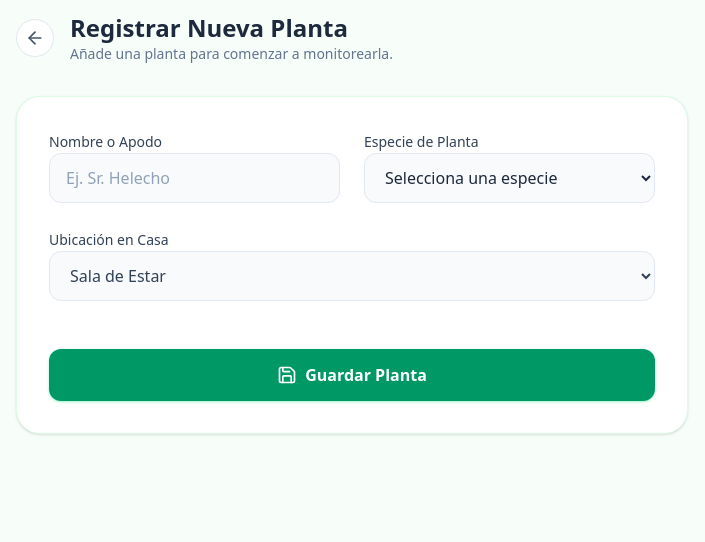
Scenario: Formulario AddPlant › un 400 con errores muestra el mensaje bajo el nombre y "Revisa los campos marcados.", sin navegar
Step 1. Type "Pepita" into the field labelled "Nombre o Apodo" → {"x": 194, "y": 178}, box [49, 153, 340, 203]
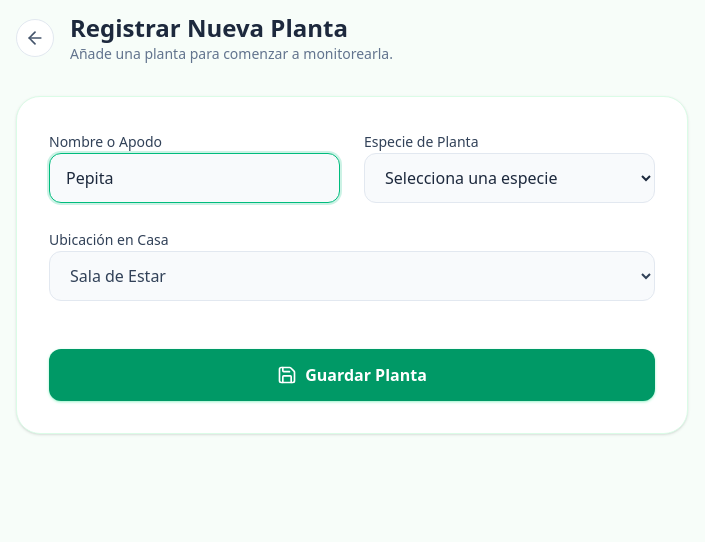
Step 2. Select "Pothos" in the dropdown labelled "Especie de Planta" → {"x": 510, "y": 178}, box [364, 153, 655, 203]
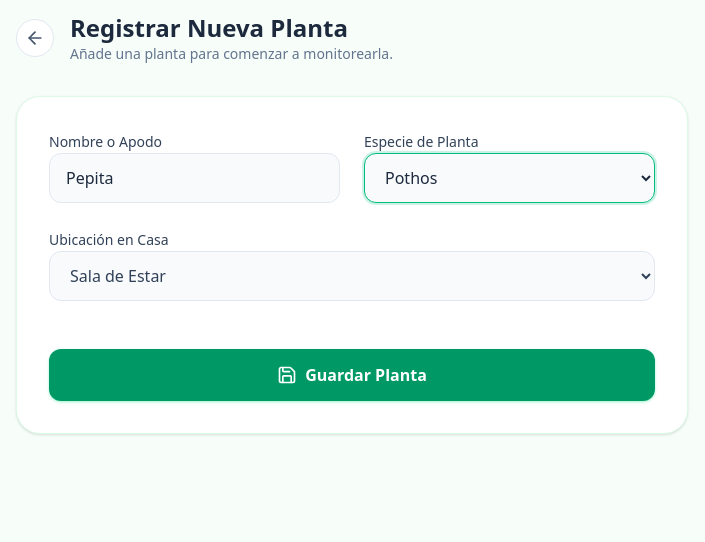
Step 3. Select "Cocina" in the dropdown labelled "Ubicación en Casa" → {"x": 352, "y": 276}, box [49, 251, 655, 301]
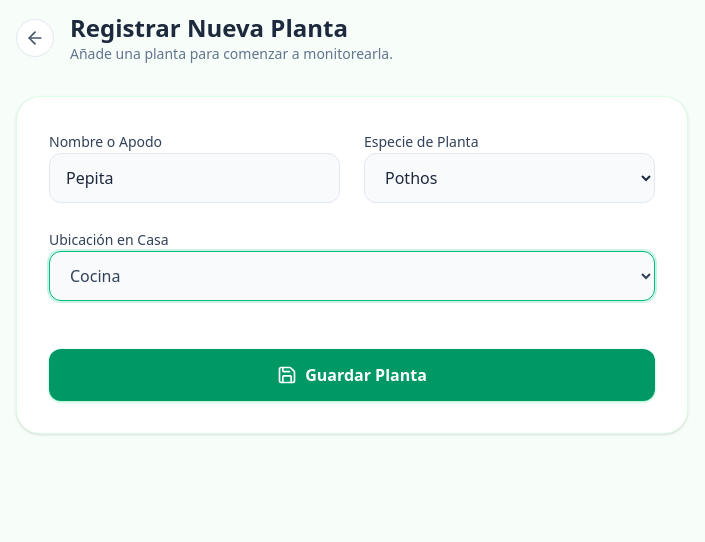
Step 4. Click the button "Guardar Planta" → {"x": 352, "y": 375}, box [49, 349, 655, 401]
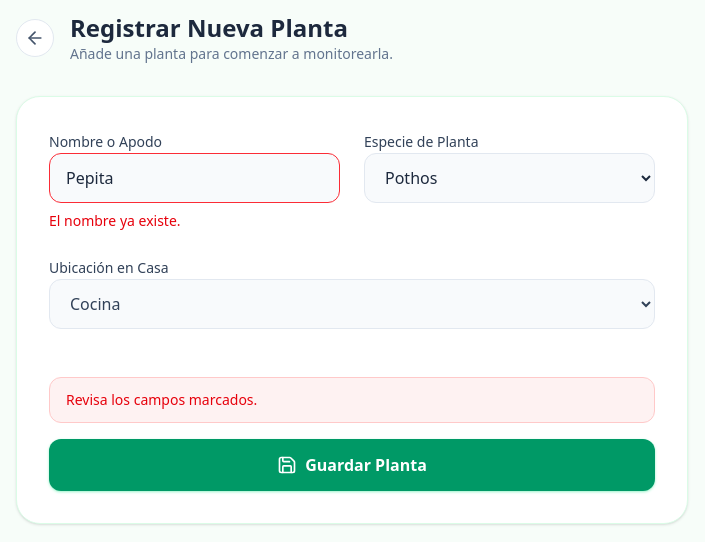
Check: the message reads "Revisa los campos marcados.", box [66, 390, 257, 409]
